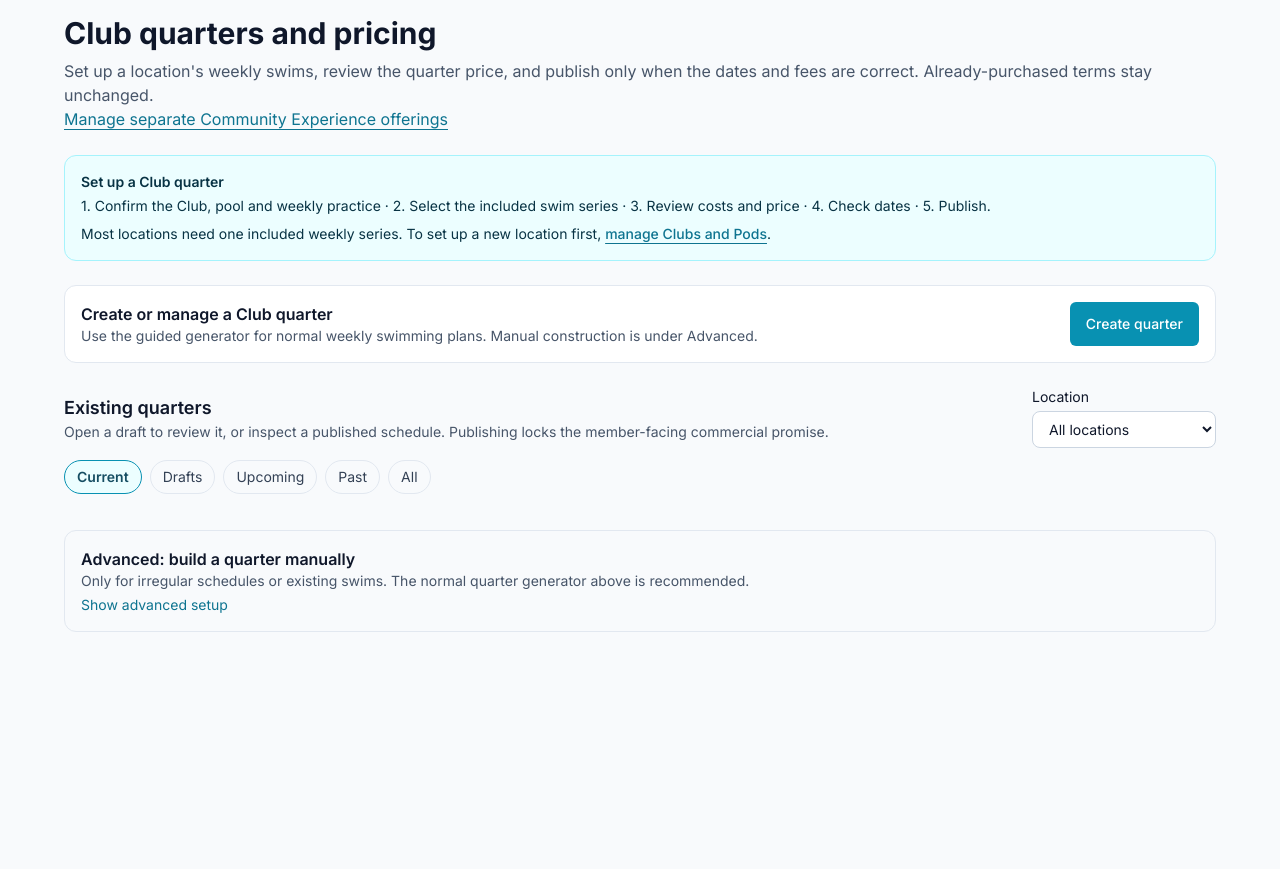
Test case: Admin actual-session quarter drafts › generates an inaugural quarter without a source session or an existing plan
This screenshot has width=1280, height=869.
Step 1. Click the button "Create quarter" → [1134, 324], box [1070, 302, 1199, 346]
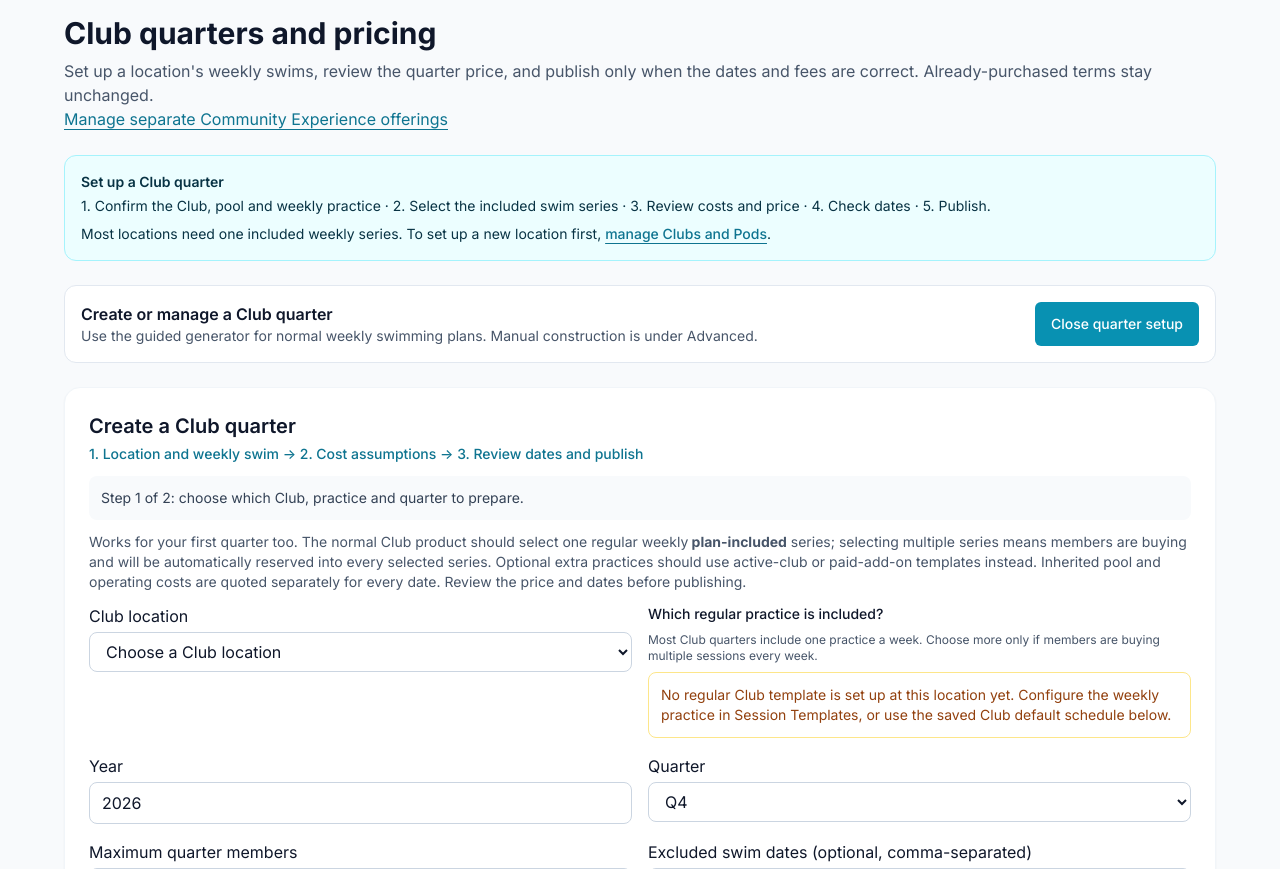
Step 2. Select "Yaba Club" in the dropdown labelled "Club location" → [360, 652], box [89, 632, 632, 672]
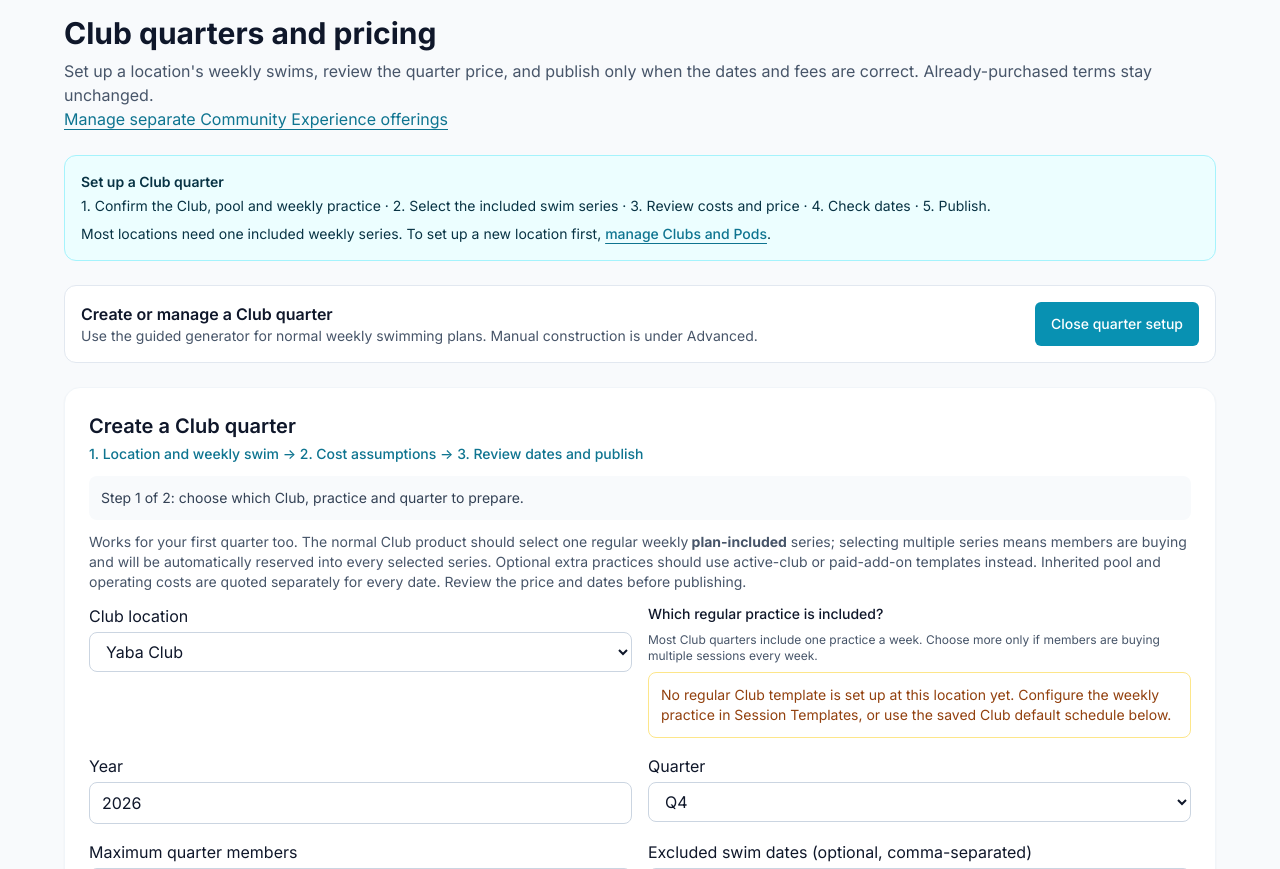
Step 3. Select "Q4" in the dropdown labelled "Quarter" → [920, 802], box [648, 782, 1191, 822]
(page scrolled)
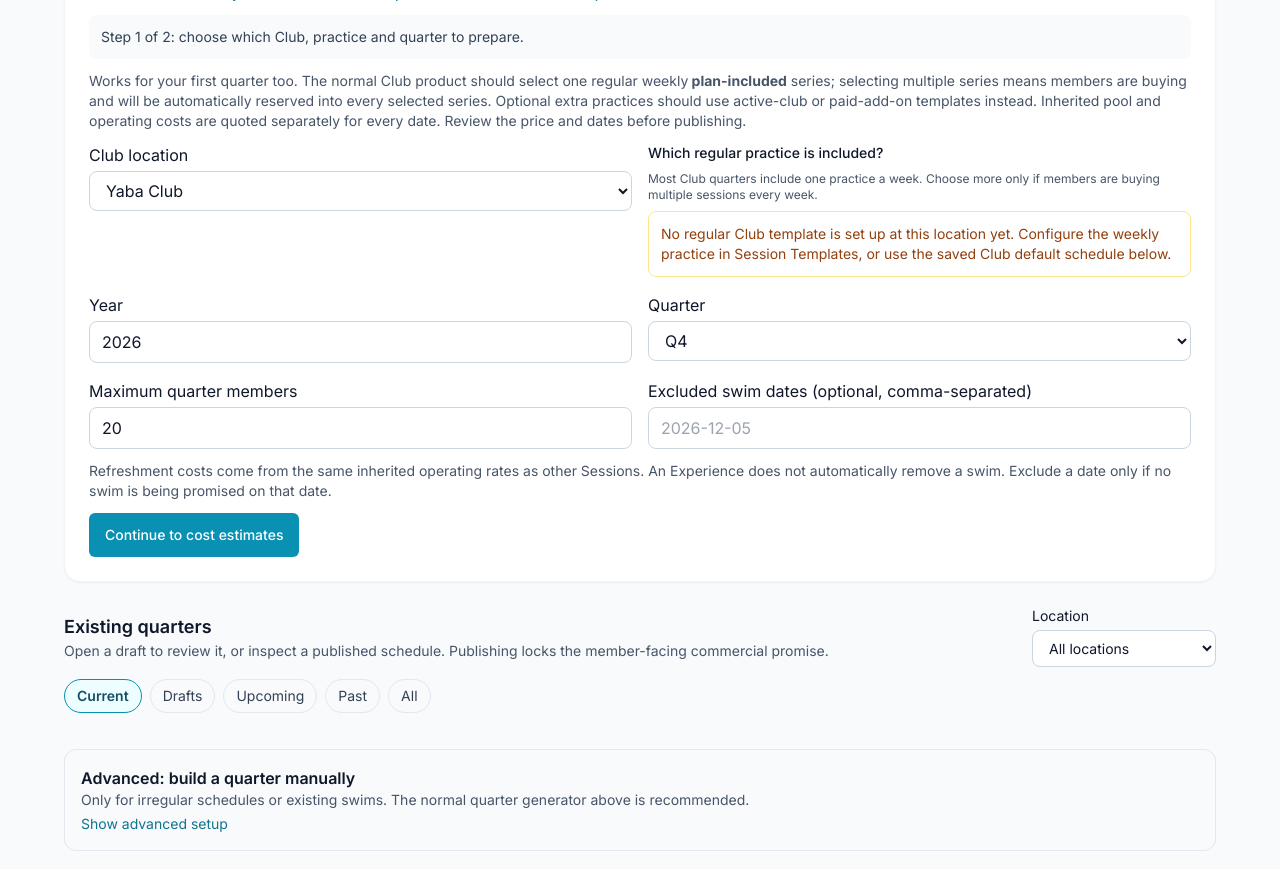
Step 4. Click the button "Continue to cost estimates" → [194, 535], box [89, 513, 300, 557]
(page scrolled)
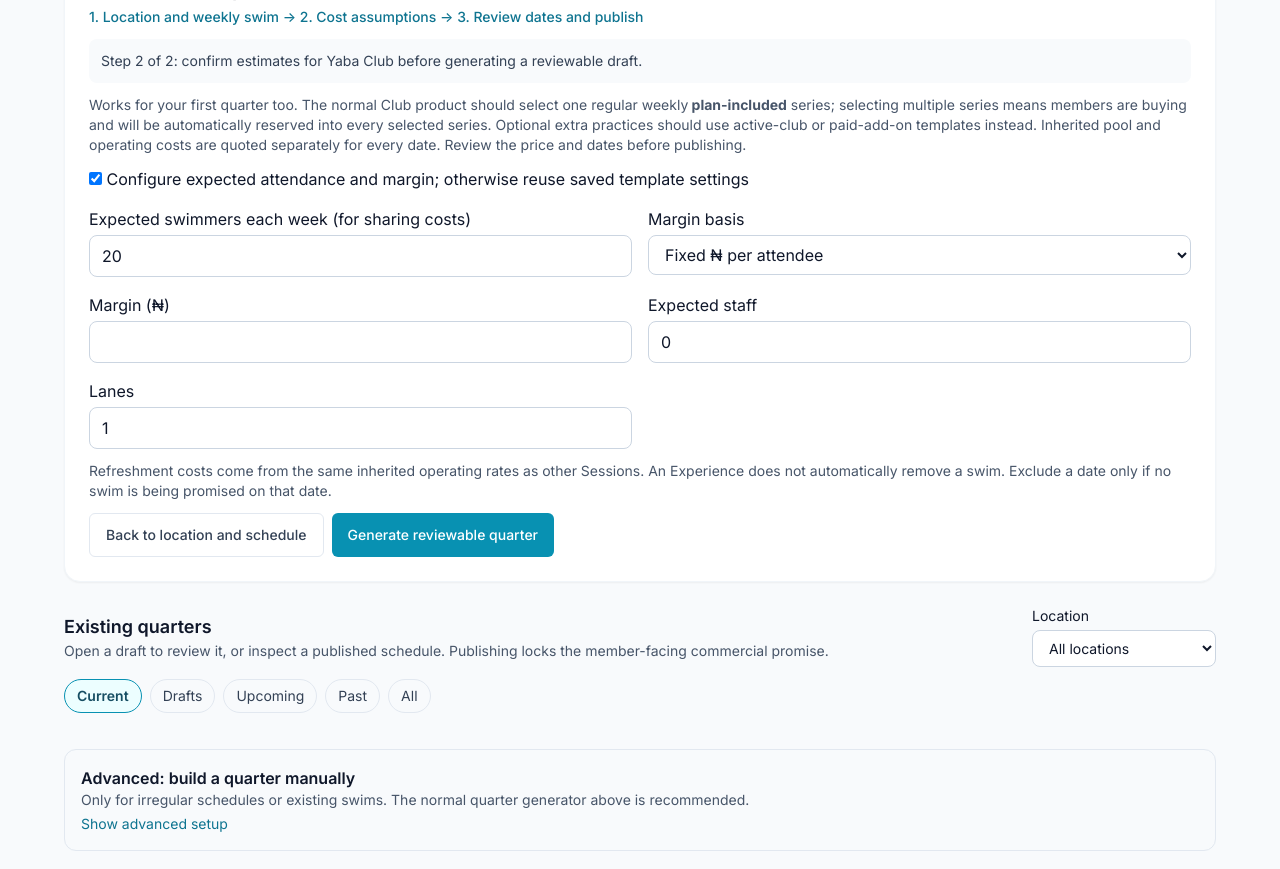
Step 5. Type "1000" into the number field labelled "Margin (₦)" → [360, 342], box [89, 321, 632, 363]
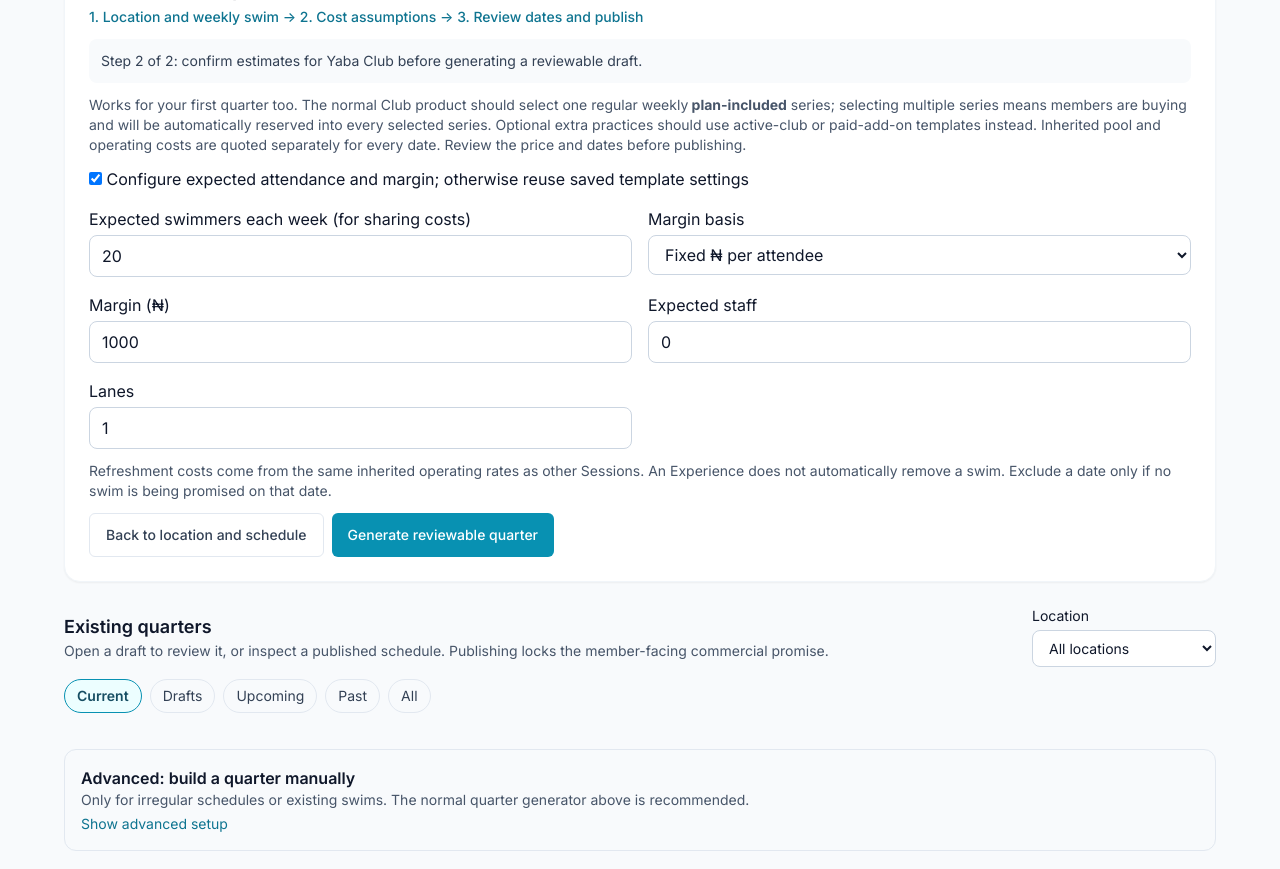
Step 6. Click the button "Generate reviewable quarter" → [443, 535], box [332, 513, 554, 557]
(page scrolled)
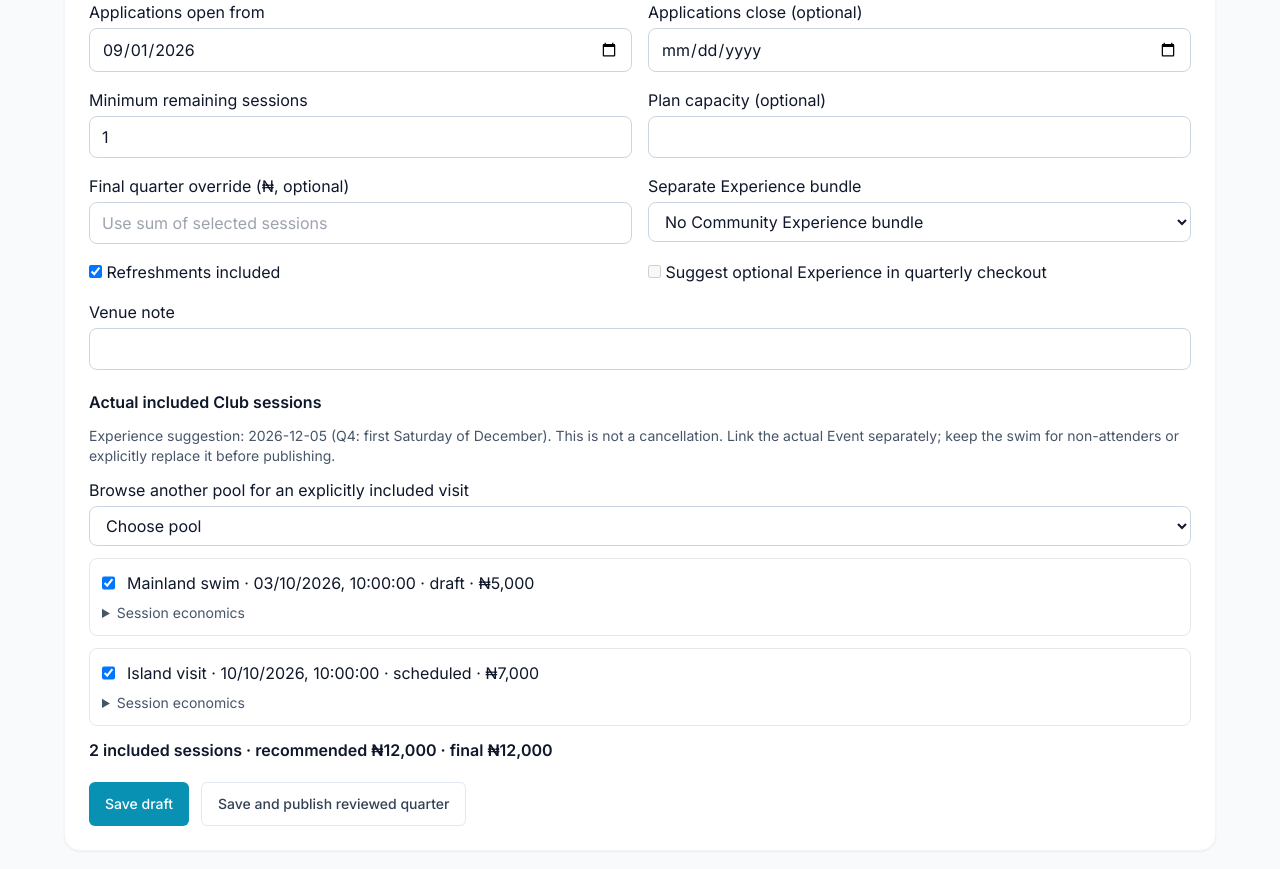
Expected: the text "2 included sessions · recommended ₦12,000 · final ₦12,000" is shown, [89, 740, 553, 760]
